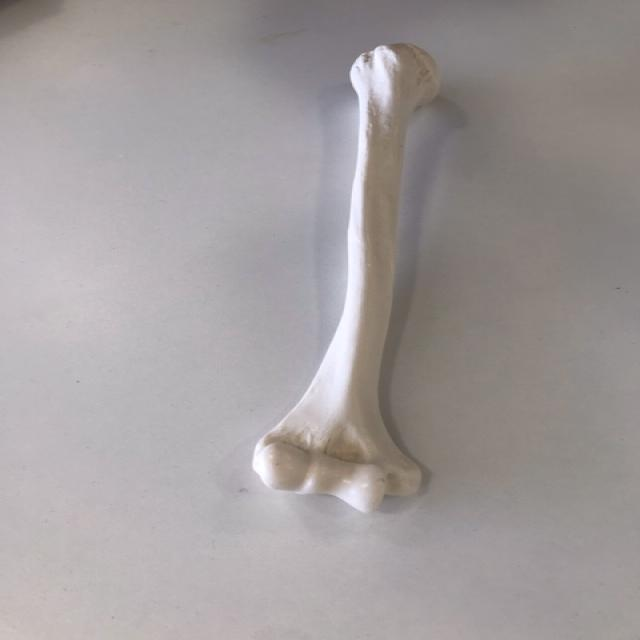bone: (248, 40, 450, 510)
